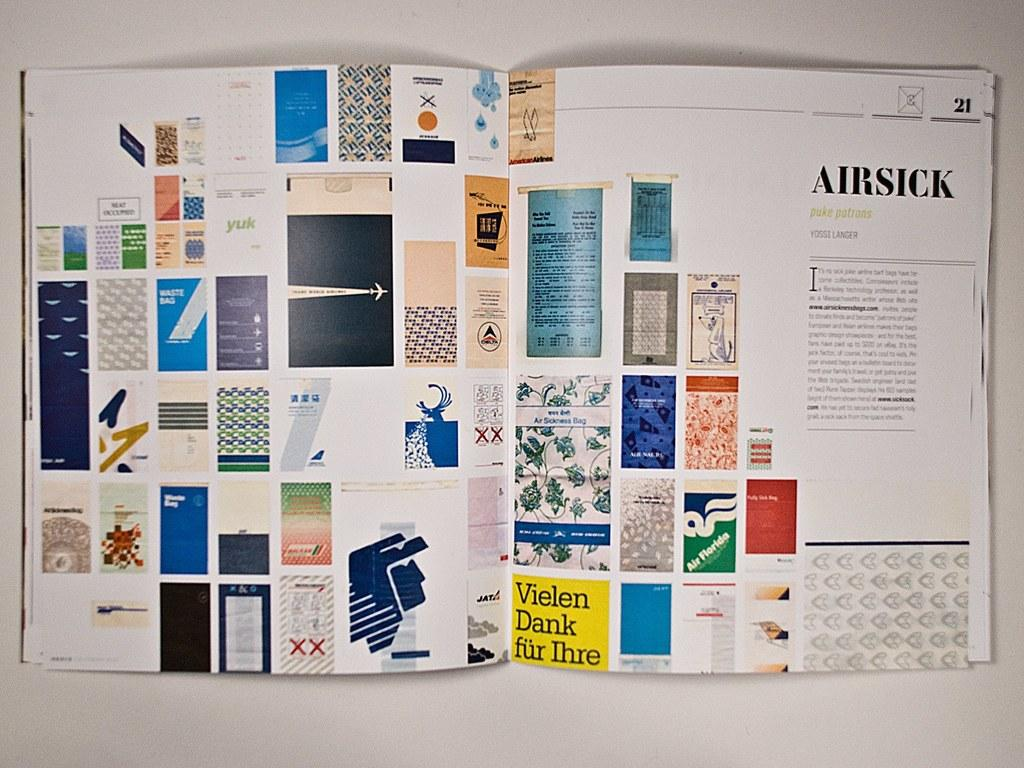book: (22, 67, 987, 666)
